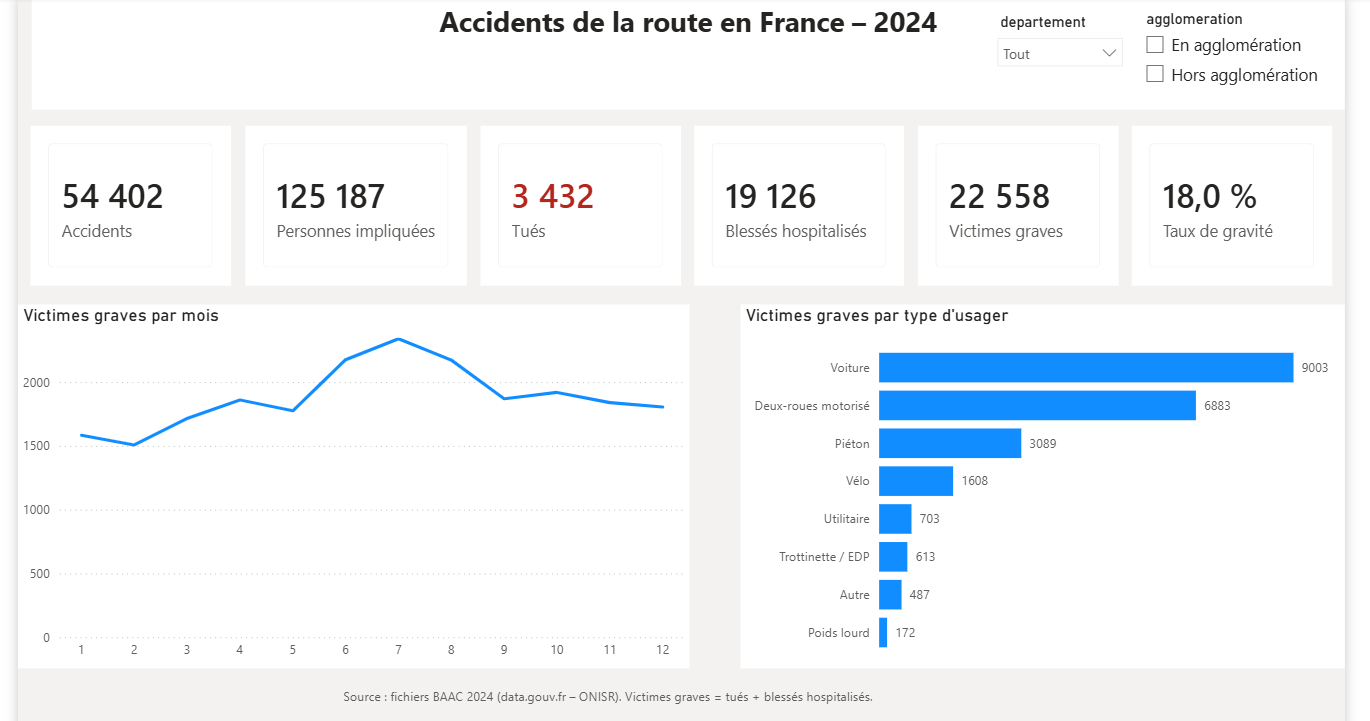

The dashboard page shown, as its layout file describes it:
{"tool":"powerbi","page":{"name":"Vue d'ensemble","canvas":[1280,720],"ordinal":0},"visuals":[{"type":"textbox","box":[13.2,0,1267.1,108.6],"z":0},{"type":"cardVisual","fields":{"Data":["_Mesures.Accidents (carte)"]},"box":[12.6,123.7,193.9,154.6],"z":1000},{"type":"cardVisual","fields":{"Data":["_Mesures.Blessés hospitalisés (carte)"]},"box":[652.9,123.7,202.4,154.6],"z":2000},{"type":"cardVisual","fields":{"Data":["_Mesures.Personnes impliquées (carte)"]},"box":[219.5,123.7,213.6,154.6],"z":3000},{"type":"cardVisual","fields":{"Data":["_Mesures.Taux de gravité"]},"box":[1075.1,123.7,193.9,154.6],"z":4000},{"type":"cardVisual","fields":{"Data":["_Mesures.Tués (carte)"]},"box":[446.1,123.7,193.9,154.6],"z":5000},{"type":"cardVisual","fields":{"Data":["_Mesures.Victimes graves (carte)"]},"box":[868.2,123.7,193.9,154.6],"z":6000},{"type":"slicer","fields":{"Values":["accidents_2024_clean.agglomeration"]},"box":[1076.2,7.3,204.1,91],"z":7000},{"type":"slicer","fields":{"Values":["accidents_2024_clean.departement"]},"box":[935.3,10.3,141,88.1],"z":8000},{"type":"lineChart","fields":{"Category":["accidents_2024_clean.mois"],"Y":["_Mesures.Victimes graves"]},"box":[0,296.5,647.9,351.3],"z":9000},{"type":"clusteredBarChart","title":"Victimes graves par type d''usager","fields":{"Category":["accidents_2024_clean.type_usager"],"Y":["_Mesures.Victimes graves"]},"box":[697.1,296.5,583.2,351.3],"z":10000},{"type":"textbox","box":[99.8,660.5,938.8,46.4],"z":11000}]}

Visuals, with their boxes on the page's 1280x720 design canvas (x1, y1, x2, y2). These are canvas units, not pixel positions in the 1370x721 screenshot, which may show the page scaled, cropped or inside an application window:
textbox: [13,0,1280,109]
cardVisual - _Mesures.Accidents (carte): [13,124,206,278]
cardVisual - _Mesures.Blessés hospitalisés (carte): [653,124,855,278]
cardVisual - _Mesures.Personnes impliquées (carte): [220,124,433,278]
cardVisual - _Mesures.Taux de gravité: [1075,124,1269,278]
cardVisual - _Mesures.Tués (carte): [446,124,640,278]
cardVisual - _Mesures.Victimes graves (carte): [868,124,1062,278]
slicer - accidents_2024_clean.agglomeration: [1076,7,1280,98]
slicer - accidents_2024_clean.departement: [935,10,1076,98]
lineChart - accidents_2024_clean.mois x _Mesures.Victimes graves: [0,296,648,648]
"Victimes graves par type d''usager" clusteredBarChart: [697,296,1280,648]
textbox: [100,660,1039,707]
